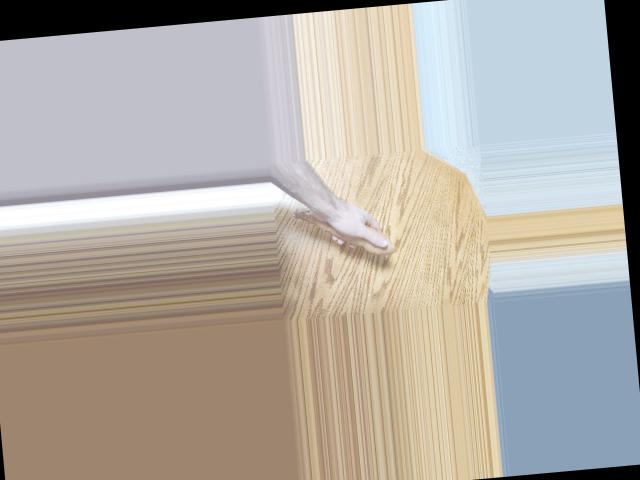sweet_potato: (290, 198, 391, 261)
